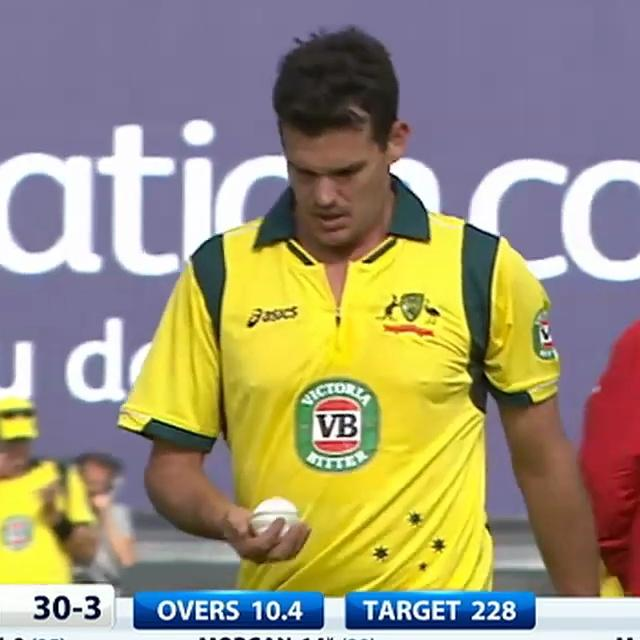umpire: (555, 155, 640, 640)
